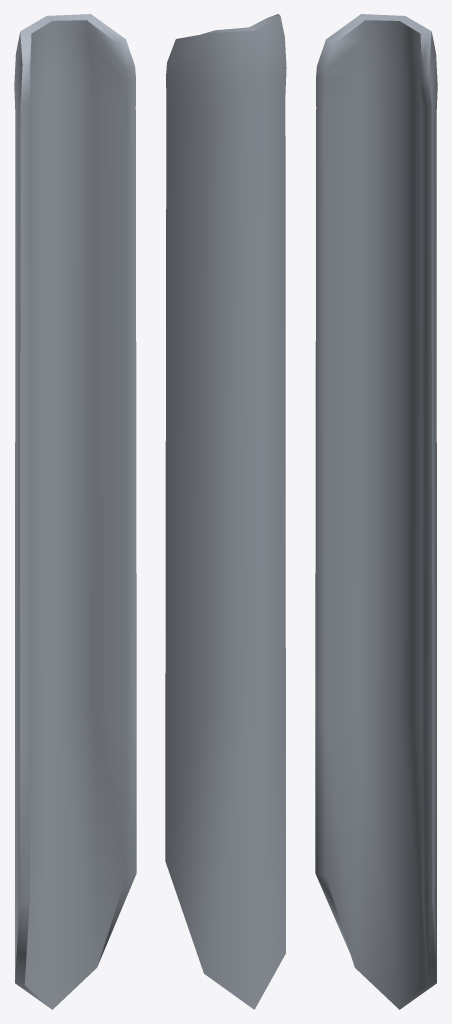
The model's file is misc_scoopula.glb.
3 renders of one model, left to right at view 1: azimuth 30°, elevation 25°; view 2: azimuth 210°, elevation 25°; view 3: azimuth 330°, elevation 25°, orthographic.
Visible parts, largest first — view 1: misc_scoopula; view 2: misc_scoopula; view 3: misc_scoopula.
Boxes of the visible parts, <box> form: misc_scoopula: <box>14,14,136,1009</box>; misc_scoopula: <box>165,14,286,1009</box>; misc_scoopula: <box>315,14,437,1009</box>.
Size of the model in its own units: 3.6 by 29.04 by 1.67.
1 material, 1 textured.
